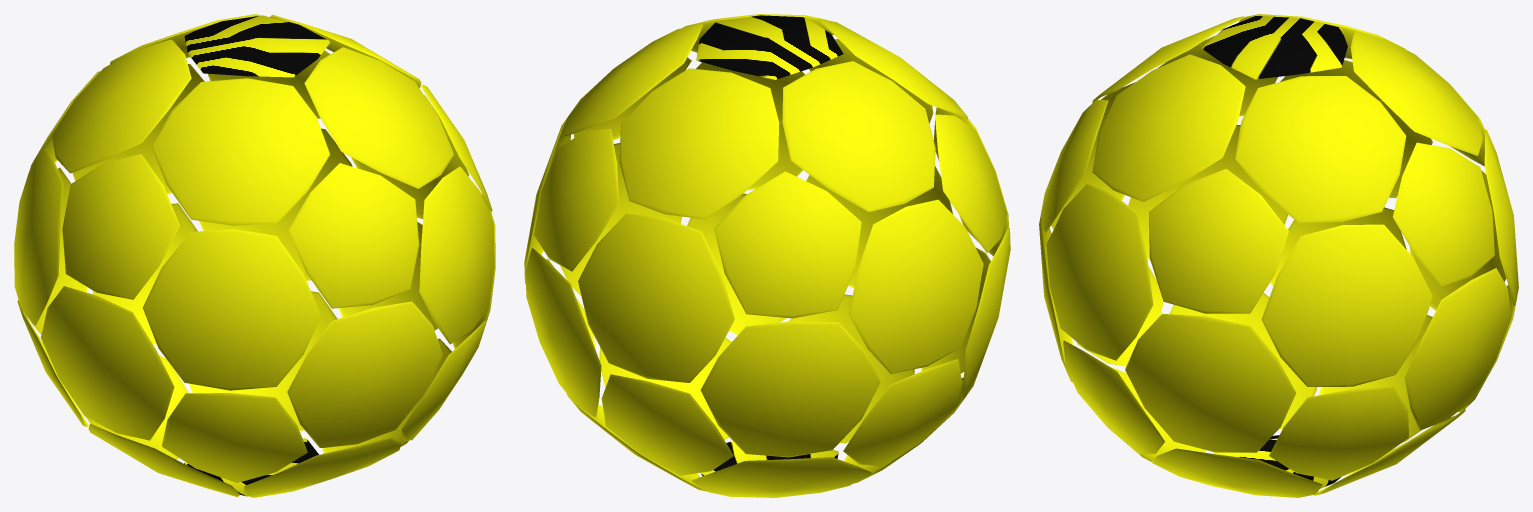
Rendered from rebound.fbx.
The picture shows the model from 3 angles, left to right: view 1: azimuth 30°, elevation 25°; view 2: azimuth 150°, elevation 25°; view 3: azimuth 270°, elevation 25°; orthographic projection.
Visible parts, largest first — view 1: rebound; view 2: rebound; view 3: rebound.
Boxes of the visible parts, x1,y1,x2,y2 form: rebound: (14,14,495,497); rebound: (524,14,1010,497); rebound: (1039,14,1518,497).
Bounding box in the file's own units: 195 × 193 × 192.
1 material, 1 textured.
